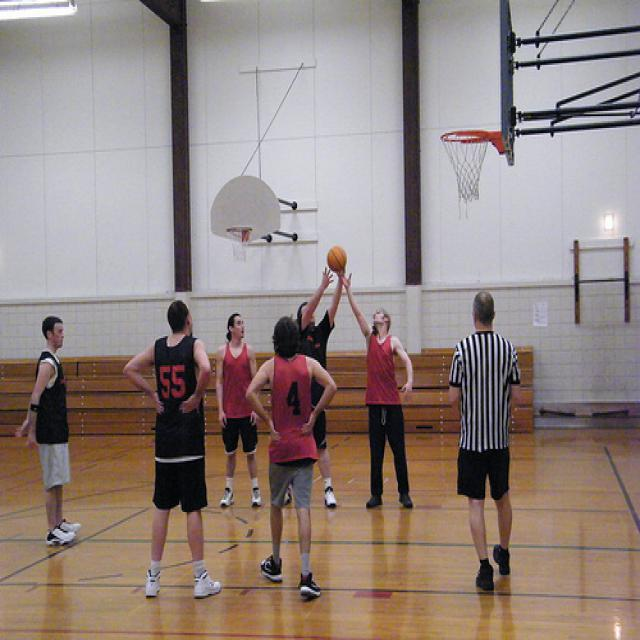basketball: (326, 244, 347, 273)
rim: (441, 128, 492, 145)
